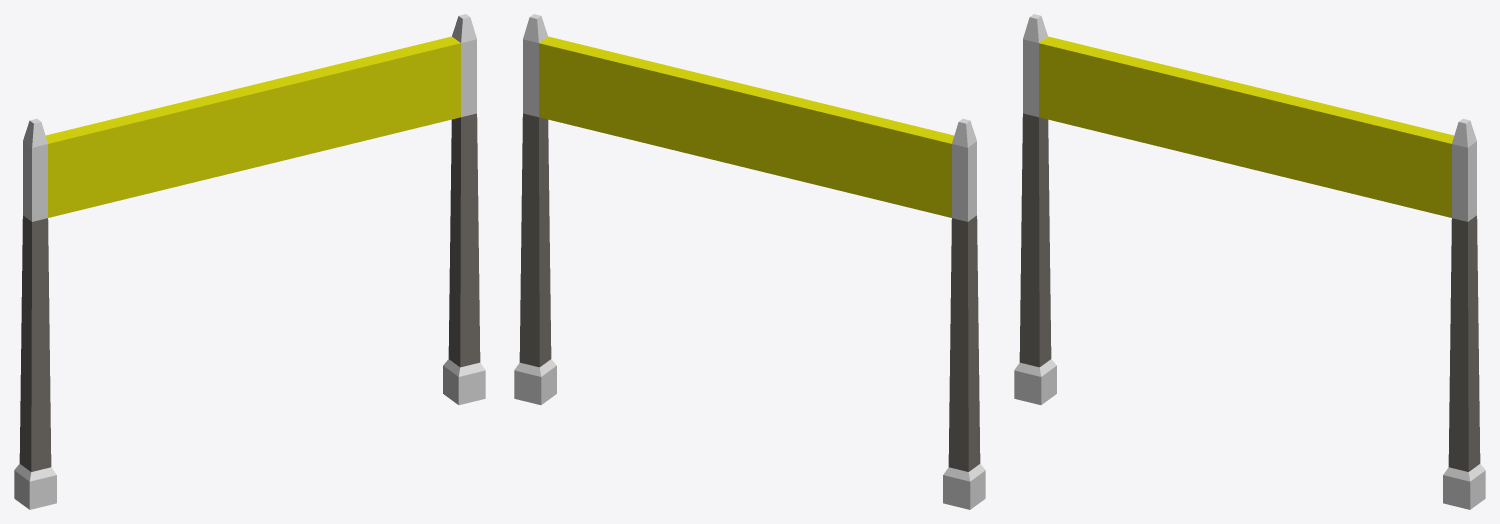
Rendered from Racing_Car_SignBoard.fbx.
3 views of the same model, side by side, from view 1: azimuth 30°, elevation 25°; view 2: azimuth 150°, elevation 25°; view 3: azimuth 330°, elevation 25° (orthographic).
Visible parts, largest first — view 1: Cube; view 2: Cube; view 3: Cube.
Part boxes in pixels (x1,y1,x2,y2): Cube: (14, 14, 485, 509); Cube: (514, 14, 985, 509); Cube: (1014, 14, 1485, 509).
Size of the model in its own units: 11.9 by 9.47 by 0.7061.
